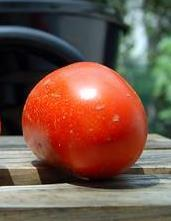tomato: (22, 61, 148, 176)
